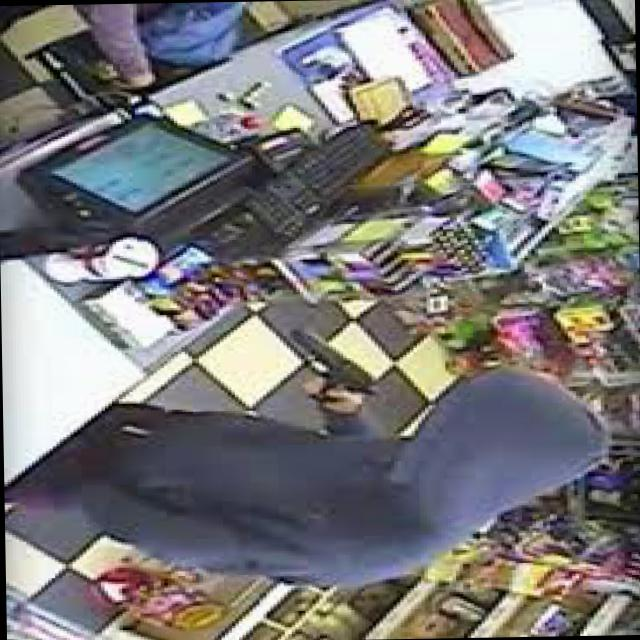handgun: (278, 320, 391, 404)
